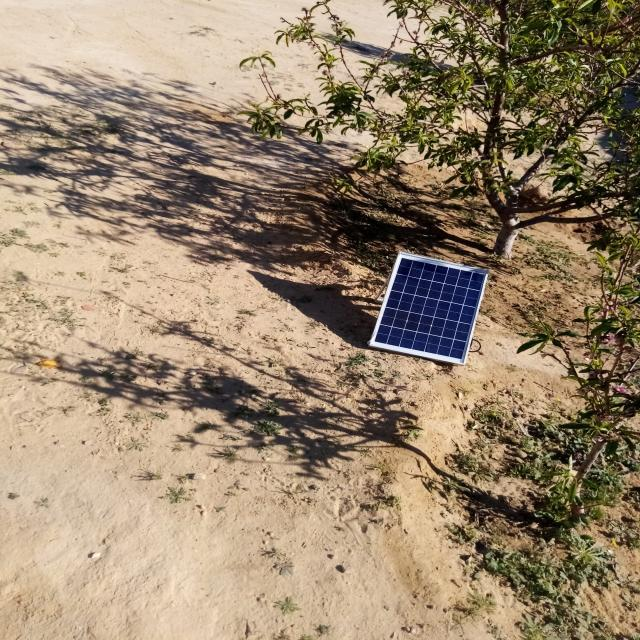no faulty: (369, 253, 490, 364)
